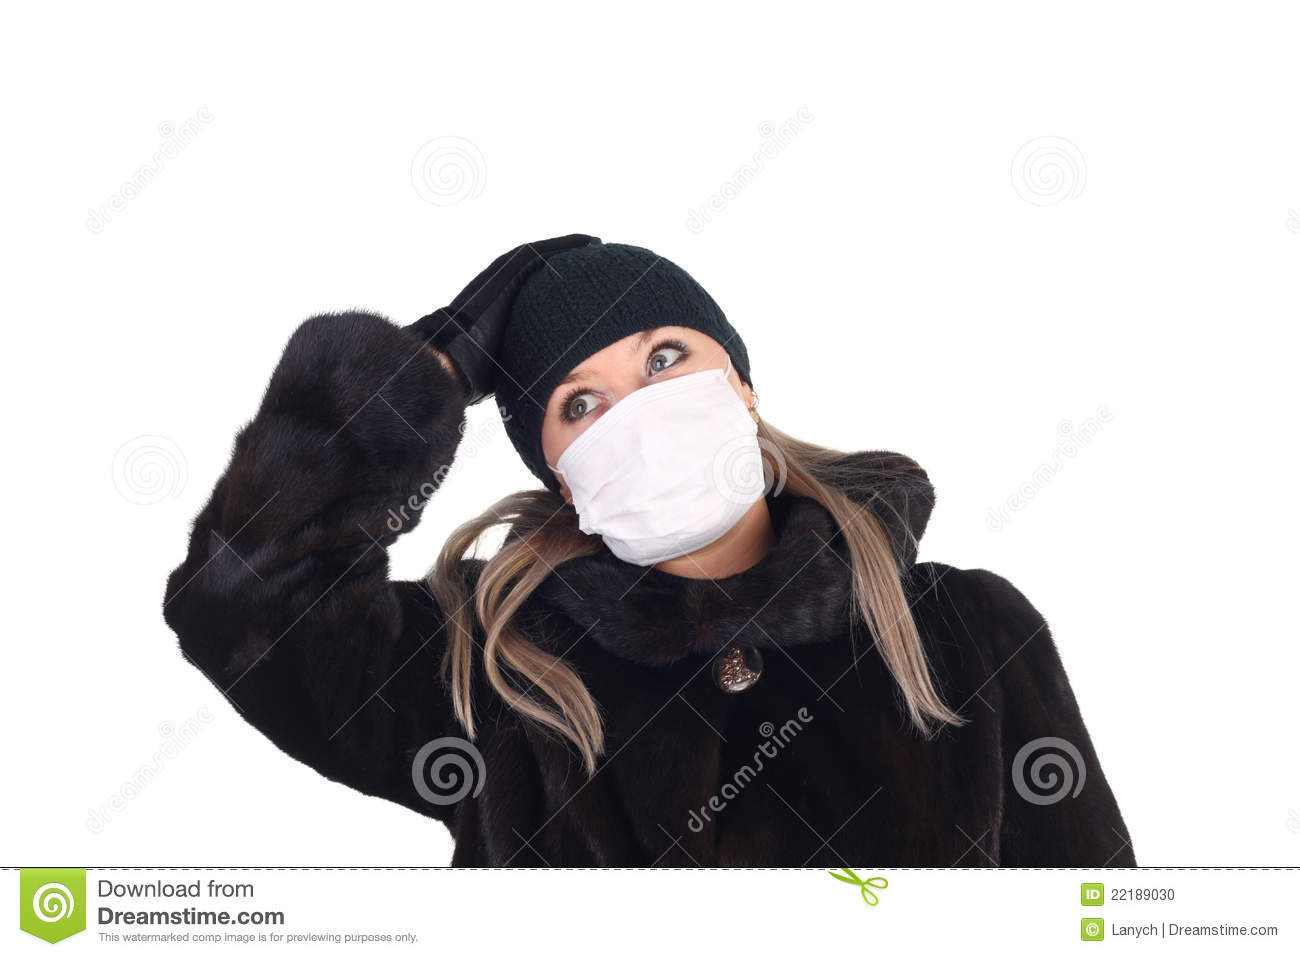mask: (554, 380, 778, 558)
